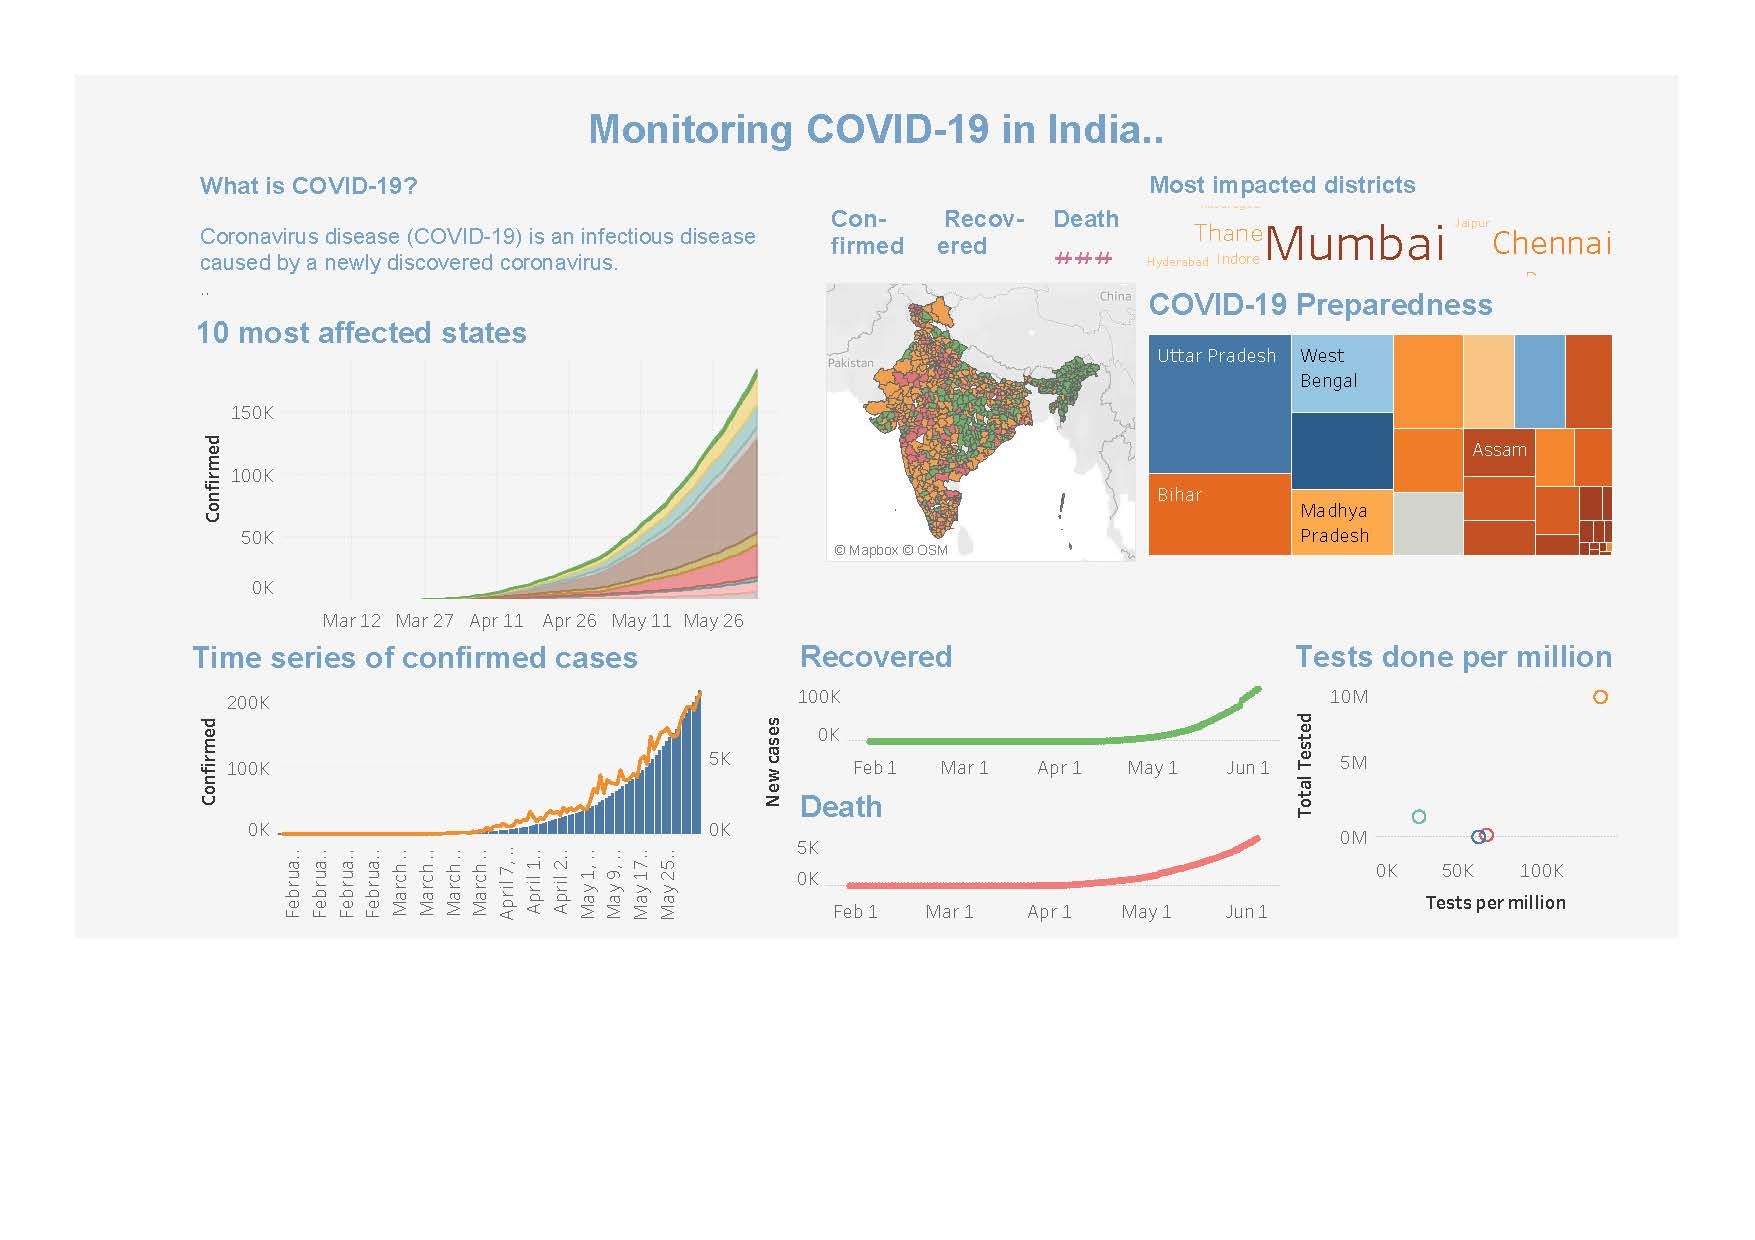

The page's visual inventory and layout, read from the dashboard file:
{"tool":"tableau","page":{"name":"COVID","canvas":[1000,1000],"units":"permille","ordinal":0},"visuals":[{"type":"worksheet","box":[18.7,23.2,961.4,79.7]},{"type":"worksheet","title":"District","mark":"Text","box":[667.1,104,292.6,129.4]},{"type":"worksheet","box":[75.5,110.6,385.6,154.9]},{"type":"worksheet","title":"Confirmed","mark":"Automatic","box":[468.7,143.8,69.6,76.3]},{"type":"worksheet","title":"Recovered","mark":"Automatic","box":[534.8,143.8,68.5,79.7]},{"type":"worksheet","title":"Death","mark":"Automatic","box":[607.4,143.8,53.2,75.2]},{"type":"worksheet","title":"Preparedness","mark":"Automatic","box":[667.1,240,294.3,323]},{"type":"worksheet","title":"India","mark":"Multipolygon","box":[468.7,242.3,193.1,323]},{"type":"worksheet","title":"Top 10","mark":"Area","rows":["Confirmed"],"cols":["Date"],"box":[73.1,272.1,366.3,372.8]},{"type":"worksheet","title":"Recovered series","mark":"Circle","rows":["Cured"],"cols":["Date"],"box":[449.4,648.2,301.9,168.1]},{"type":"worksheet","title":"Indian testing","mark":"Automatic","rows":["totaltested"],"cols":["testspermillion"],"box":[758.3,648.2,203.6,333]},{"type":"worksheet","title":"Confirmed Cases","mark":"Line","rows":["Confirmed","Confirmed"],"cols":["Date"],"box":[70.2,649.3,375.7,333]},{"type":"worksheet","title":"Death Series","mark":"Circle","rows":["Deaths"],"cols":["Date"],"box":[449.4,821.9,301.9,161.5]}]}

Visuals, with their boxes on the dashboard's canvas, which has no fixed pixel size, in thousandths of its width and height (x1, y1, x2, y2). These are canvas units, not pixel positions in the 1755x1240 screenshot, which may show the page scaled, cropped or inside an application window:
worksheet: {"x1": 19, "y1": 23, "x2": 980, "y2": 103}
"District" worksheet (Text marks): {"x1": 667, "y1": 104, "x2": 960, "y2": 233}
worksheet: {"x1": 76, "y1": 111, "x2": 461, "y2": 266}
"Confirmed" worksheet: {"x1": 469, "y1": 144, "x2": 538, "y2": 220}
"Recovered" worksheet: {"x1": 535, "y1": 144, "x2": 603, "y2": 224}
"Death" worksheet: {"x1": 607, "y1": 144, "x2": 661, "y2": 219}
"Preparedness" worksheet: {"x1": 667, "y1": 240, "x2": 961, "y2": 563}
"India" worksheet (Multipolygon marks): {"x1": 469, "y1": 242, "x2": 662, "y2": 565}
"Top 10" worksheet (Area marks): {"x1": 73, "y1": 272, "x2": 439, "y2": 645}
"Recovered series" worksheet (Circle marks): {"x1": 449, "y1": 648, "x2": 751, "y2": 816}
"Indian testing" worksheet: {"x1": 758, "y1": 648, "x2": 962, "y2": 981}
"Confirmed Cases" worksheet (Line marks): {"x1": 70, "y1": 649, "x2": 446, "y2": 982}
"Death Series" worksheet (Circle marks): {"x1": 449, "y1": 822, "x2": 751, "y2": 983}
